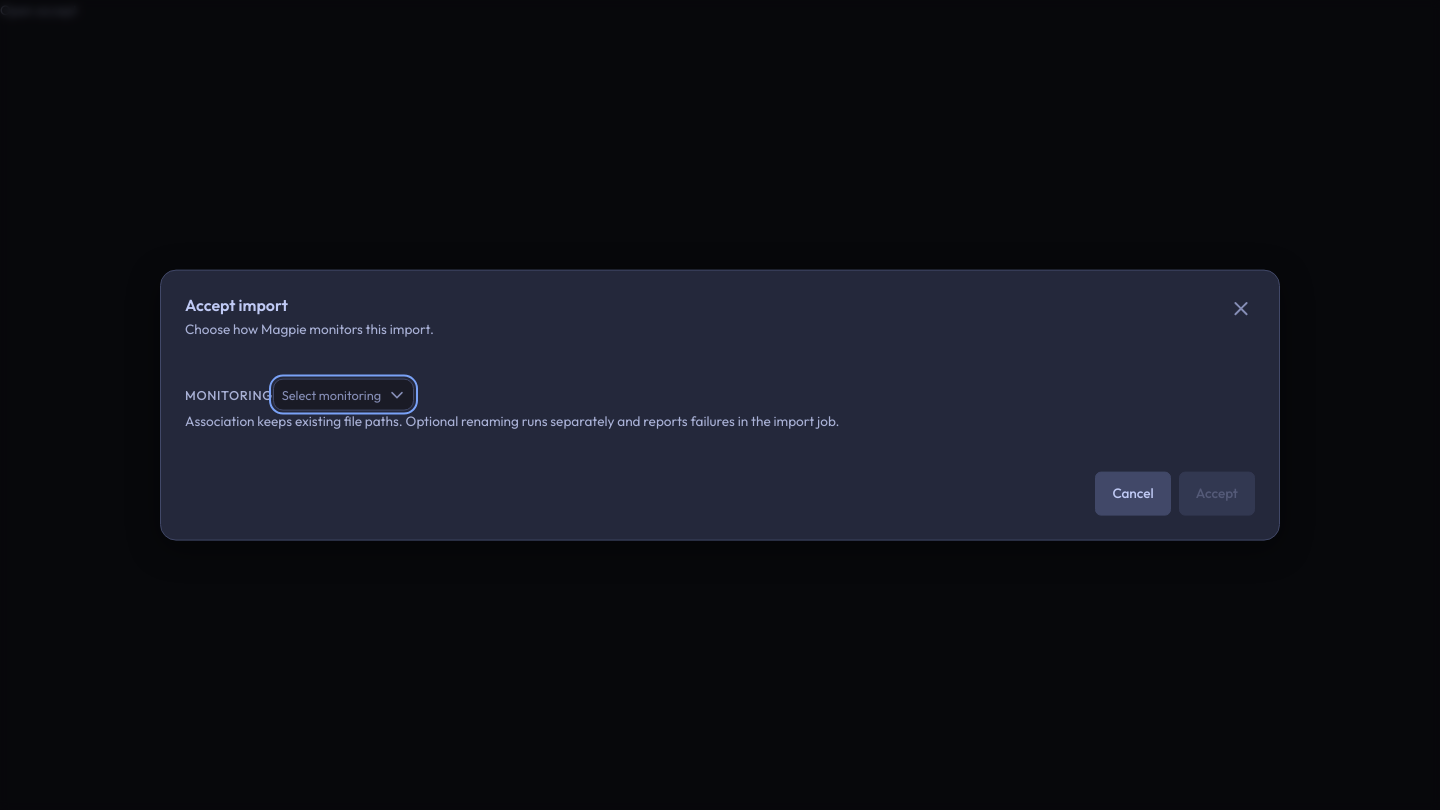
Test: AcceptImportDialog › cancels without running the action
Click the button "Cancel" at x=1133, y=493, box [1095,471,1171,515]
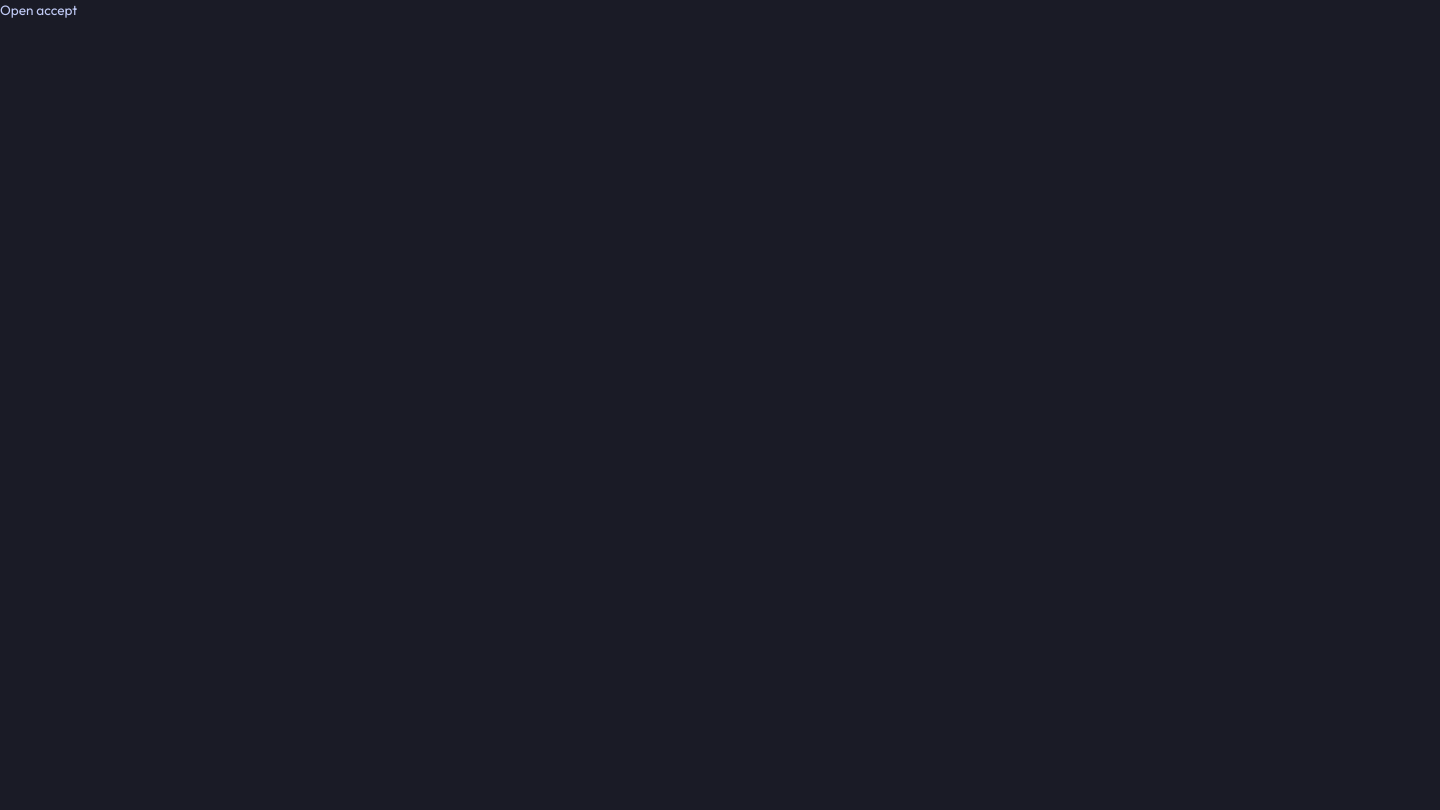
Now the dialog is gone
